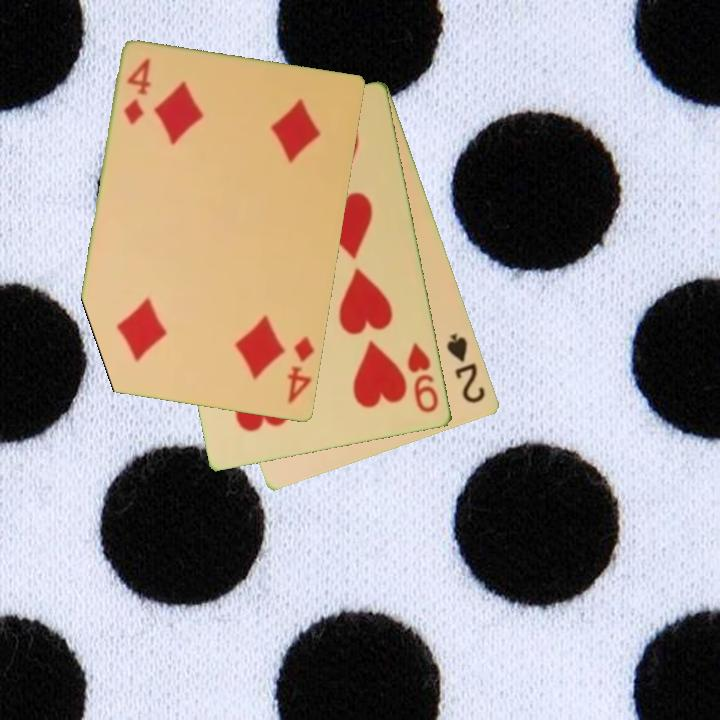2s: (443, 330, 489, 407)
4d: (284, 333, 318, 407), (120, 55, 154, 129)
9h: (404, 339, 442, 416)
